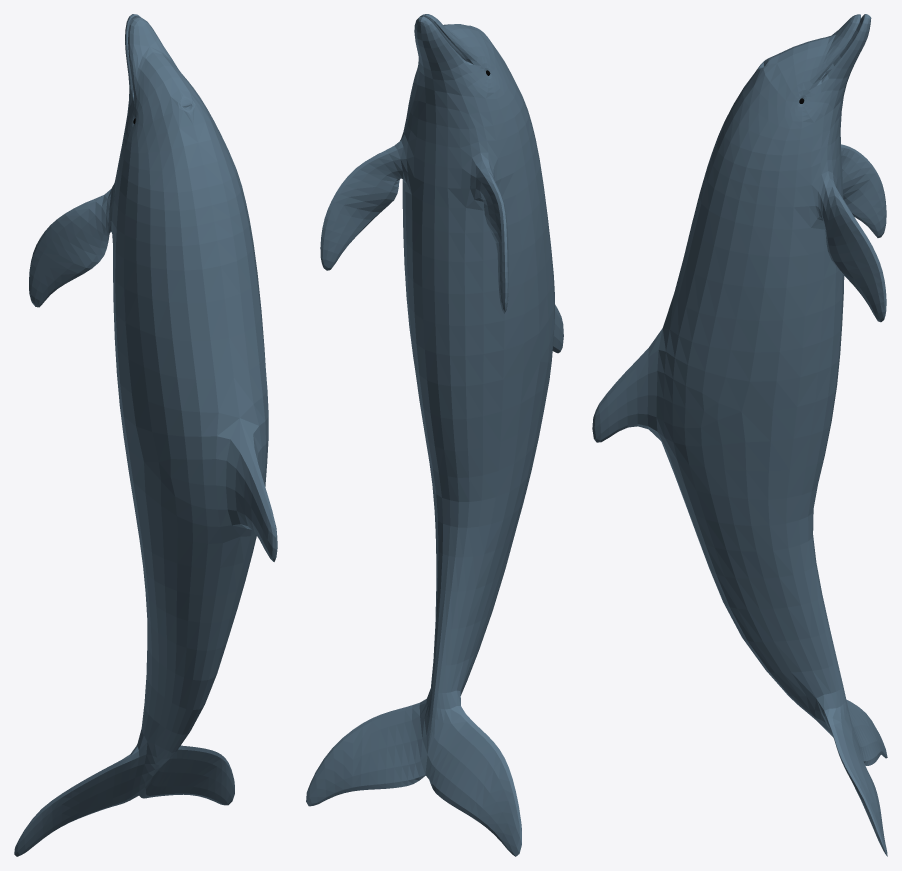
The model's file is dolphin.obj.
The picture shows the model from 3 angles, left to right: view 1: azimuth 30°, elevation 25°; view 2: azimuth 150°, elevation 25°; view 3: azimuth 270°, elevation 25°; orthographic projection. The views are drawn at different scales.
Visible parts, largest first — view 1: Mesh.002_DOLPHIN01; view 2: Mesh.002_DOLPHIN01; view 3: Mesh.002_DOLPHIN01.
Part boxes in pixels (bbox=[...]): Mesh.002_DOLPHIN01: bbox=[14, 14, 277, 856]; Mesh.002_DOLPHIN01: bbox=[306, 14, 563, 856]; Mesh.002_DOLPHIN01: bbox=[592, 14, 887, 856].
Size of the model in its own units: 234 by 837 by 282.
